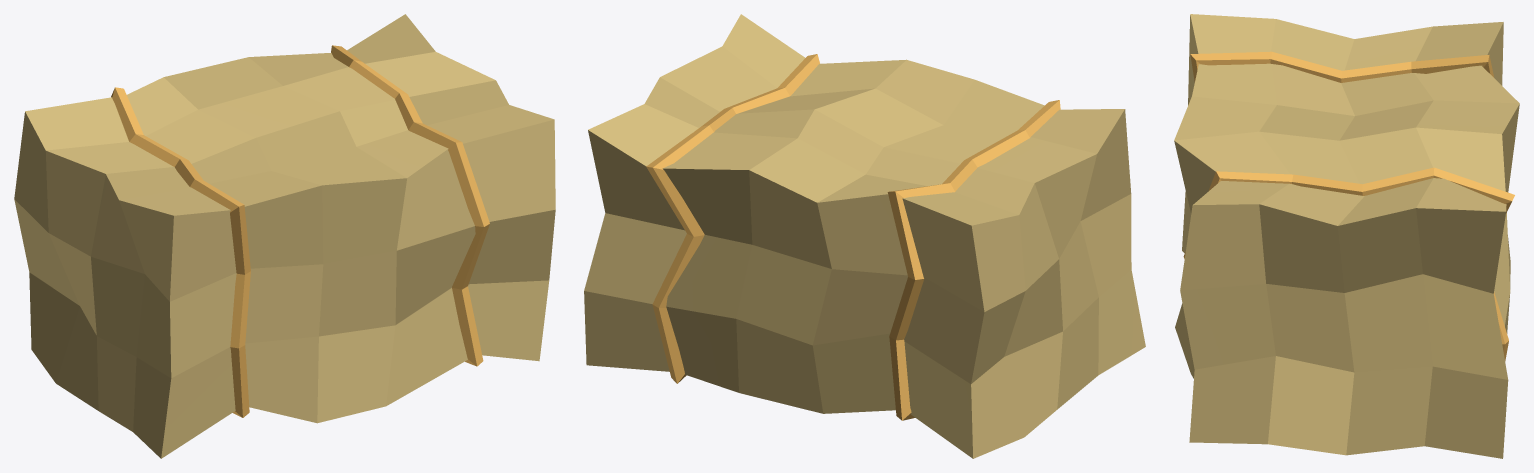
The model's file is strawpack_a.gltf.
3 renders of one model, left to right at view 1: azimuth 30°, elevation 25°; view 2: azimuth 150°, elevation 25°; view 3: azimuth 270°, elevation 25°, orthographic. The views are drawn at different scales.
Parts seen in each view (by area): view 1: strawpack_a001; view 2: strawpack_a001; view 3: strawpack_a001.
Boxes of the visible parts, x1=… form: strawpack_a001: x1=14, y1=14, x2=555, y2=458; strawpack_a001: x1=584, y1=14, x2=1145, y2=458; strawpack_a001: x1=1174, y1=14, x2=1519, y2=458.
Bounding box in the file's own units: 1.37 × 0.8153 × 0.9641.
Materials: 1 (1 with a texture image).
